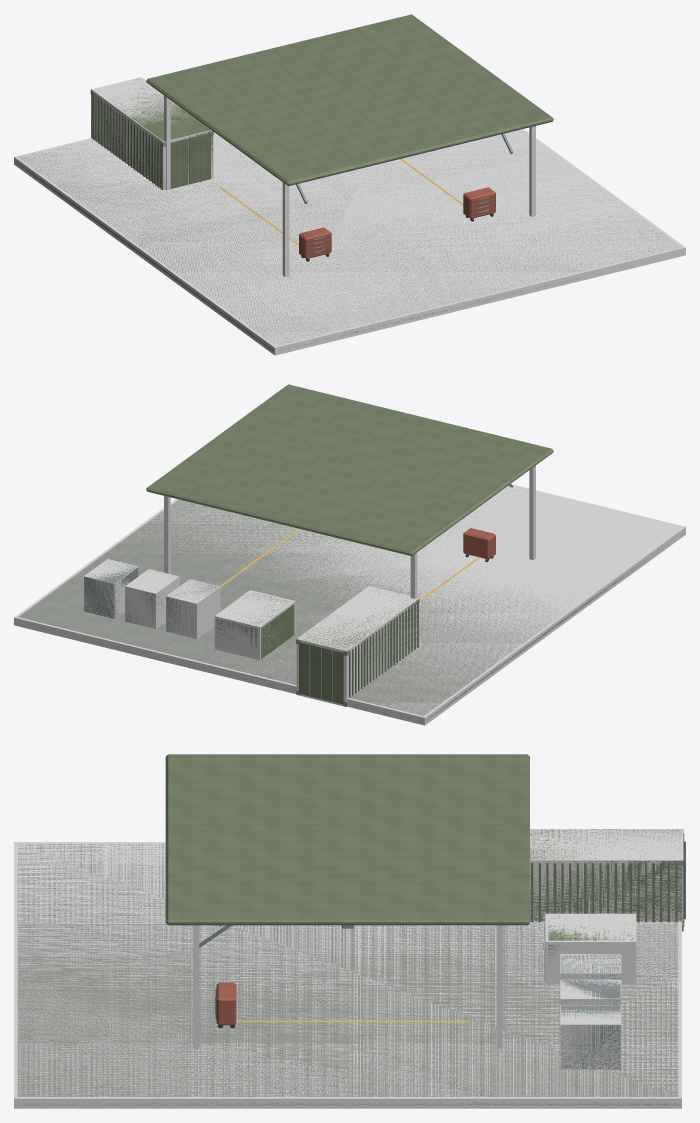
Rendered from RepairStation.fbx.
The picture shows the model from 3 angles, top to bottom: view 1: azimuth 30°, elevation 25°; view 2: azimuth 150°, elevation 25°; view 3: azimuth 270°, elevation 25°; orthographic projection. The views are drawn at different scales.
Visible parts, largest first — view 1: COL_Static, LOD0; view 2: LOD0, COL_Static; view 3: LOD0, COL_Static.
Boxes of the visible parts, x1,y1,x2,y2 form: COL_Static: (14, 77, 685, 355); LOD0: (15, 14, 680, 351); LOD0: (18, 384, 684, 721); COL_Static: (14, 465, 685, 725); LOD0: (17, 754, 685, 1105); COL_Static: (14, 829, 683, 1108).
Size of what is drawn, in the model's own units: 2000 by 521 by 2213.
